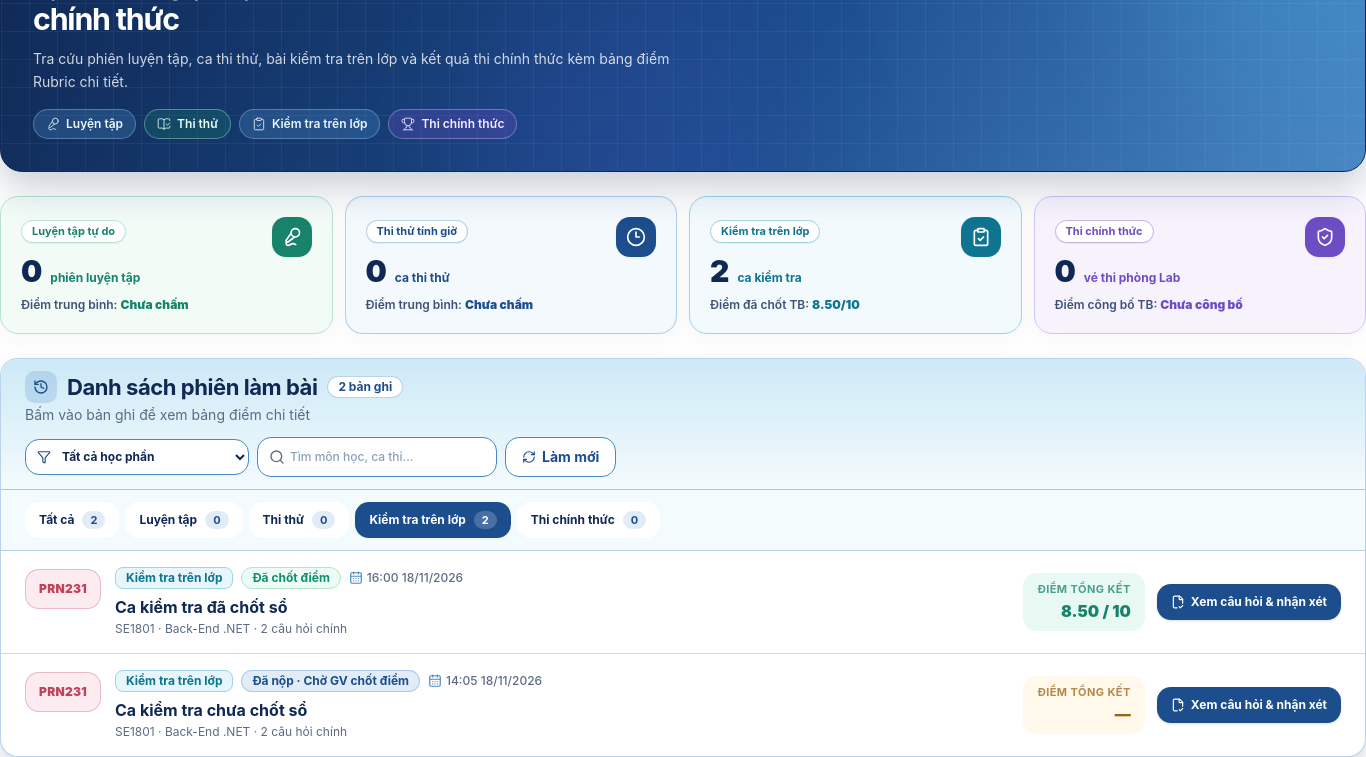
ExamHistoryPage MF-05 In-Class Exam integration & Invariant #9 › hides scores & AI feedback before FINALIZED and displays them once FINALIZED
(page scrolled)
Expected: the heading "Ca kiểm tra chưa chốt sổ" is shown, [115,700,307,720]
Expected: the heading "Ca kiểm tra đã chốt sổ" is shown, [115,597,288,617]
Sắp xếp theo thời gian mới nhất: shift-finalized (09:00) đứng trên, shift-pending (07:05) đứng dưới
Click the button "Xem câu hỏi & nhận xét" in the row of "Ca kiểm tra chưa chốt sổ". click: (1249, 705)
box: [1157,687,1341,723]
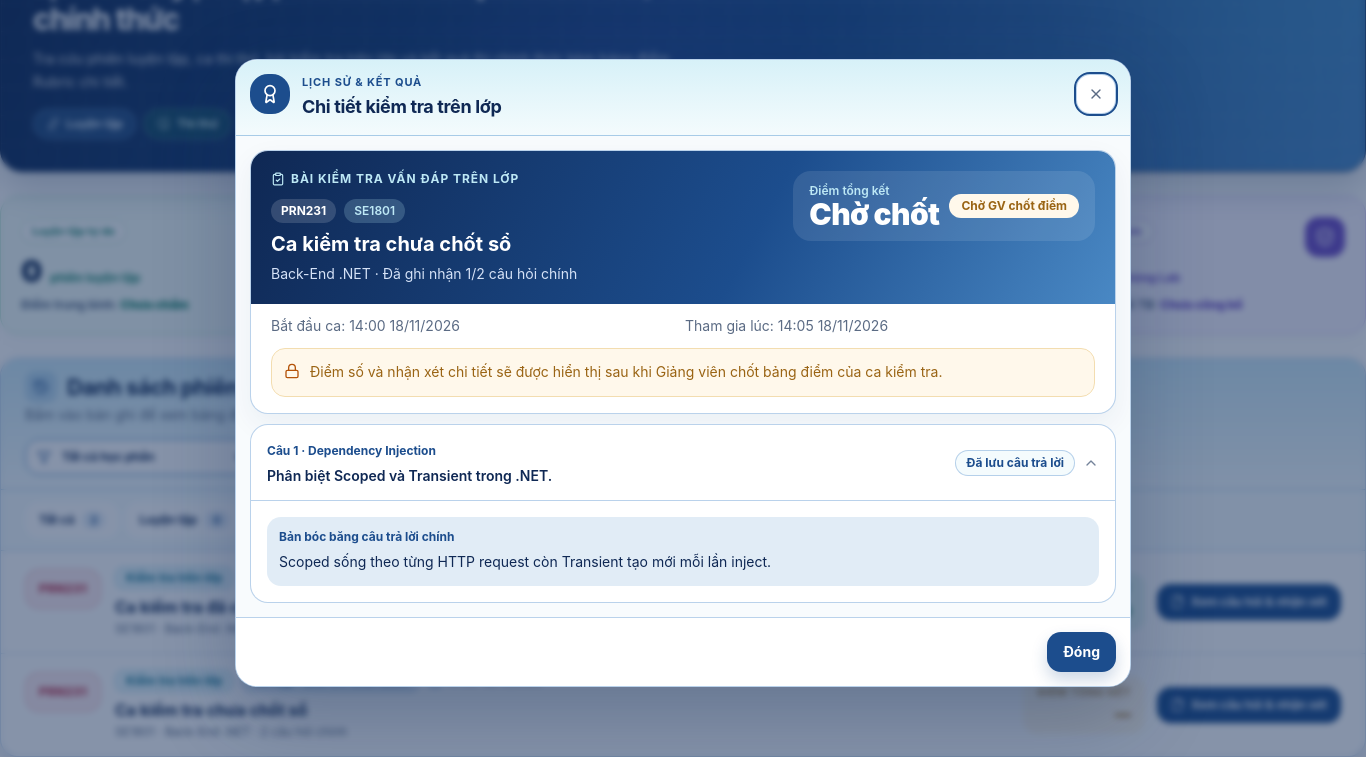
Now the text "Điểm số và nhận xét chi tiết sẽ được hiển thị sau khi Giảng viên chốt bảng điểm của ca kiểm tra." is shown, box [310,363,942,380]
Now the text "Scoped sống theo từng HTTP request còn Transient tạo mới mỗi lần inject." is shown, box [279,553,771,570]
Click the button named "Đóng". click: (1096, 94)
box: [1076,74,1116,114]
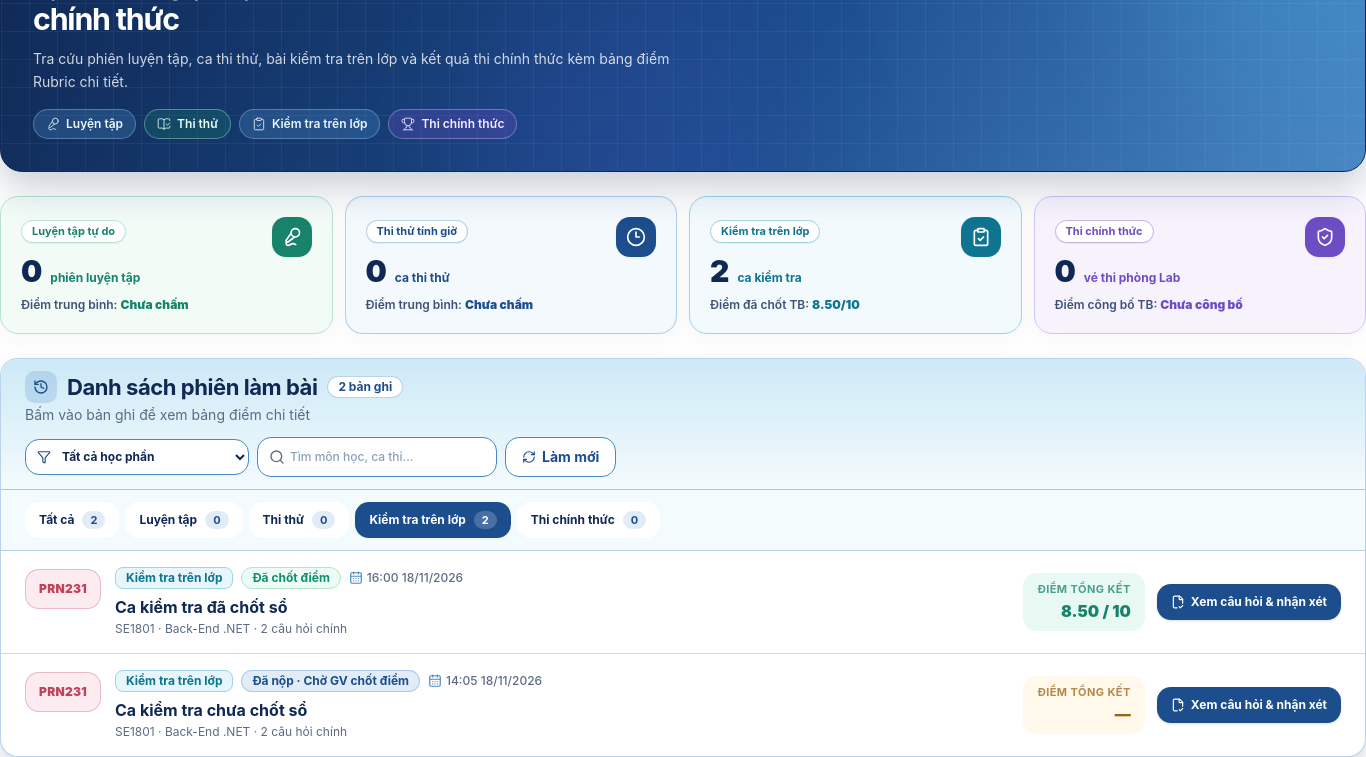
Now the text "Điểm số và nhận xét chi tiết sẽ được hiển thị sau khi Giảng viên chốt bảng điểm của ca kiểm tra." is gone
Click the button "Xem câu hỏi & nhận xét" next to "8.50 / 10". click: (1249, 602)
box: [1157,584,1341,620]
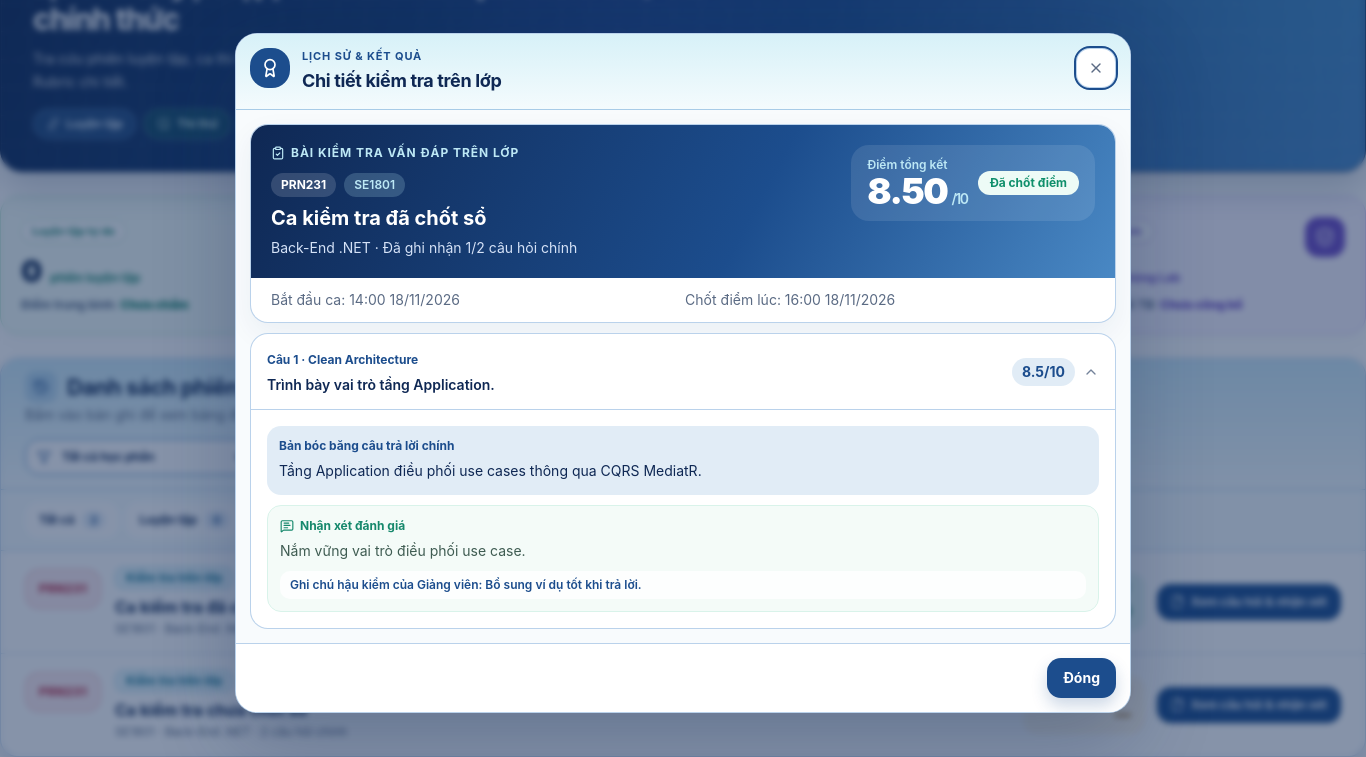
Now the text "Tầng Application điều phối use cases thông qua CQRS MediatR." is shown, box [279,462,702,479]
Now the text "Nắm vững vai trò điều phối use case." is shown, box [280,542,526,559]
Now the text "Bổ sung ví dụ tốt khi trả lời" is shown, box [485,577,642,592]
